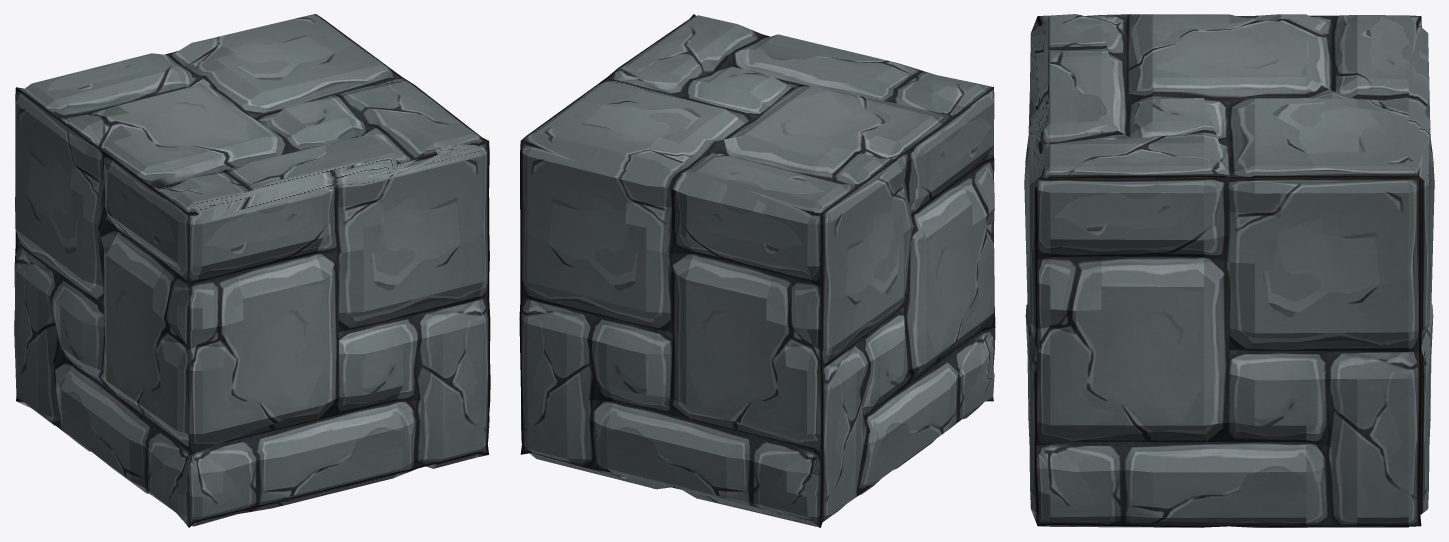
File: kamien1.obj
3 views of the same model, side by side, from view 1: azimuth 30°, elevation 25°; view 2: azimuth 150°, elevation 25°; view 3: azimuth 270°, elevation 25° (orthographic). The views are drawn at different scales.
Visible parts, largest first — view 1: Cube; view 2: Cube; view 3: Cube.
Boxes of the visible parts, x1,y1,x2,y2 form: Cube: (14,14,490,527); Cube: (519,14,995,527); Cube: (1024,14,1434,527).
Bounding box in the file's own units: 2 × 2 × 2.
Materials: 1 (1 with a texture image).
